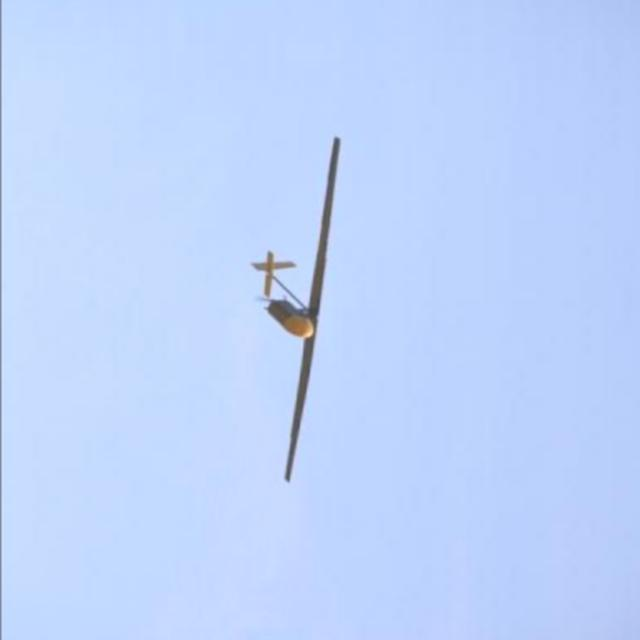plane: (248, 136, 343, 485)
